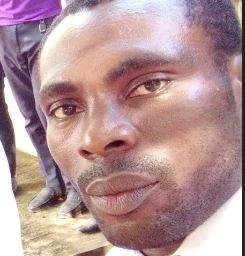without_facemask: (43, 139, 196, 228)
